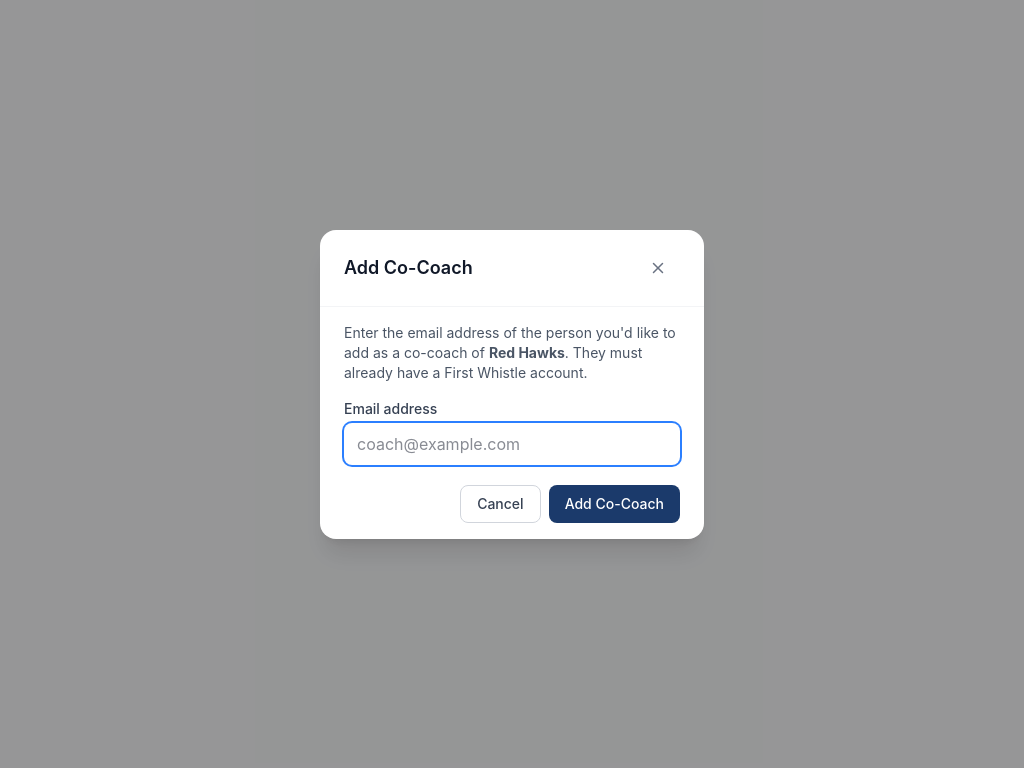
it: AssignCoCoachModal — successful submit › shows a success banner after the CF resolves
In the field labelled "Email address": x=512, y=444 [344,422,680,464], type "jane@example.com"
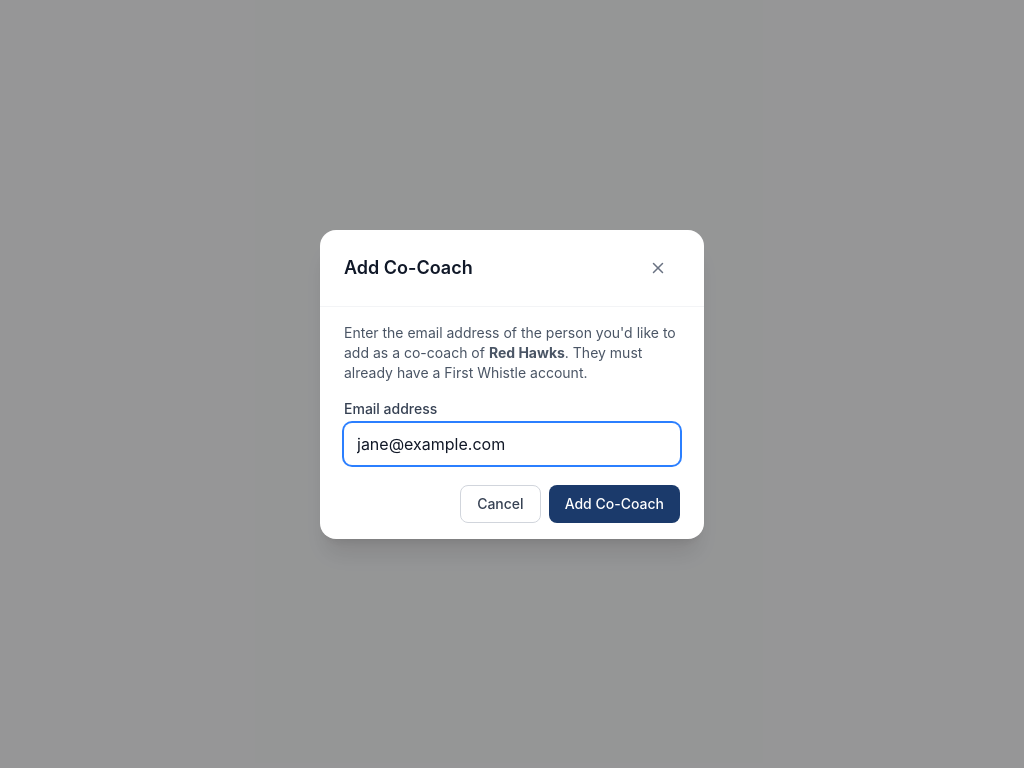
Click the button "Add Co-Coach": x=614, y=504 [549,484,680,522]
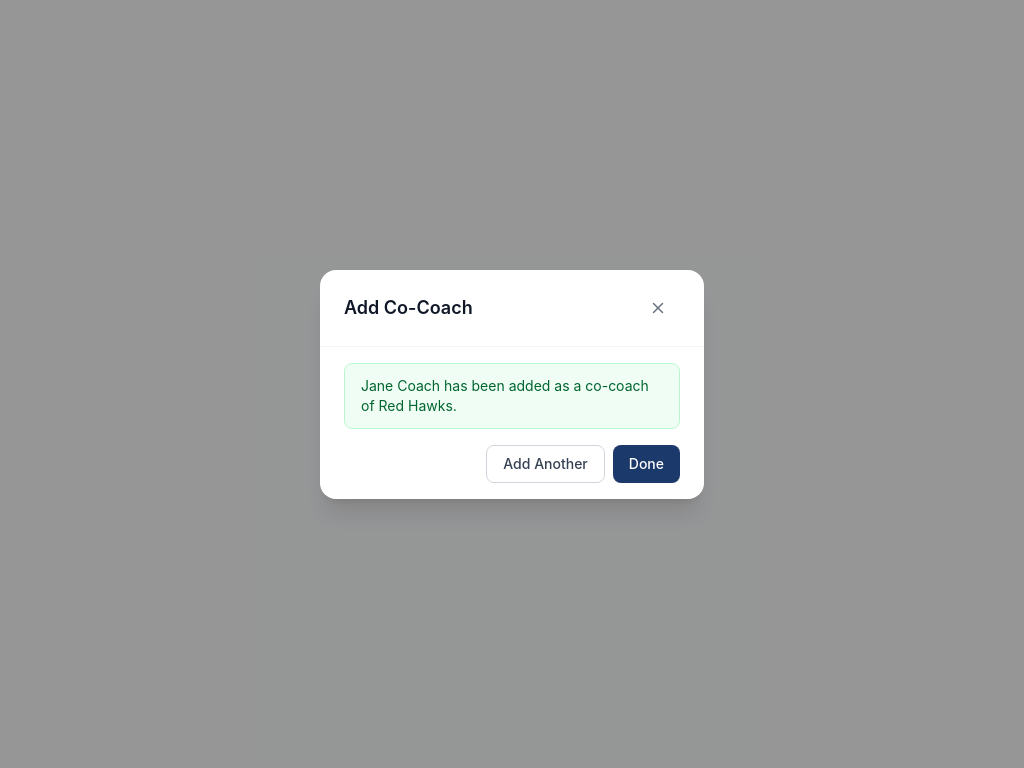
Now the message reads "Jane Coach has been added as a co-coach of Red Hawks.", box [361,376,649,414]
